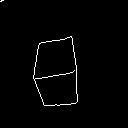cube: (27, 29, 86, 118)
